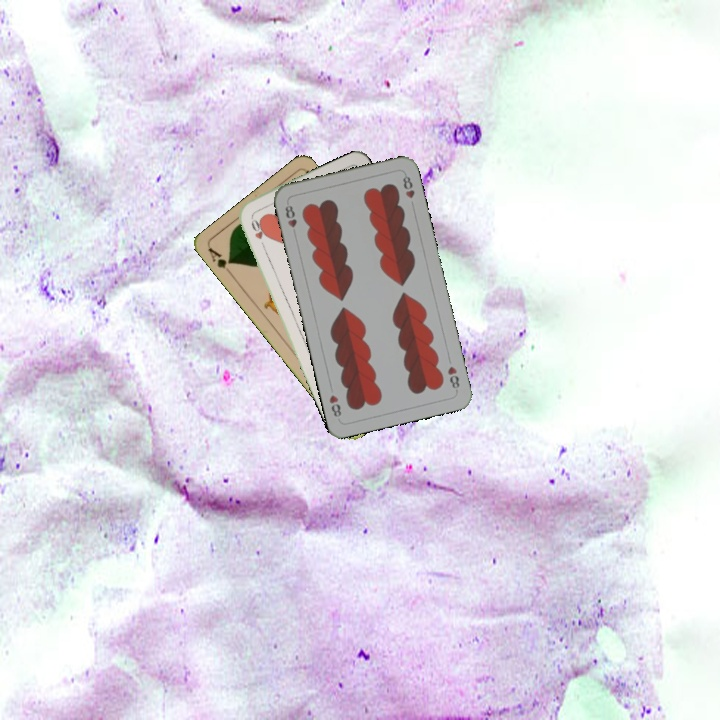GA: (204, 244, 236, 278)
H8: (281, 201, 299, 239), (443, 362, 462, 394)
HO: (247, 213, 268, 252)
